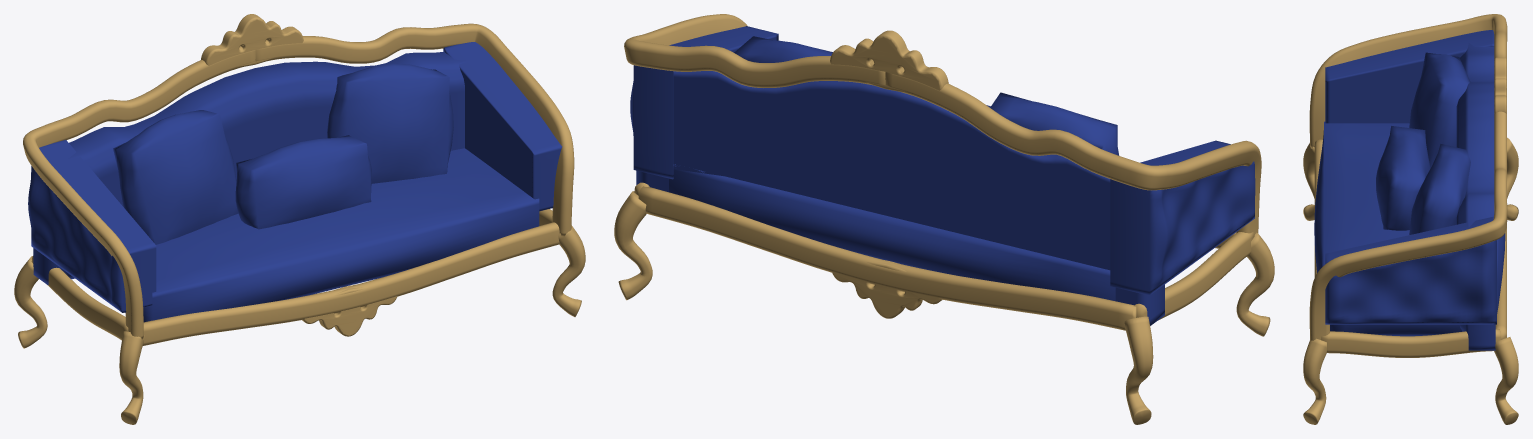
File: ar-sofa-royal-blue-velvet.glb
3 views of the same model, side by side, from view 1: azimuth 30°, elevation 25°; view 2: azimuth 150°, elevation 25°; view 3: azimuth 270°, elevation 25° (orthographic). The views are drawn at different scales.
Visible parts, largest first — view 1: piece-royal; view 2: piece-royal; view 3: piece-royal.
Boxes of the visible parts, bbox=[...] form: piece-royal: bbox=[14, 14, 585, 424]; piece-royal: bbox=[614, 14, 1274, 424]; piece-royal: bbox=[1303, 14, 1518, 424].
Size of the model in its own units: 2.1 by 1.19 by 0.8838.
